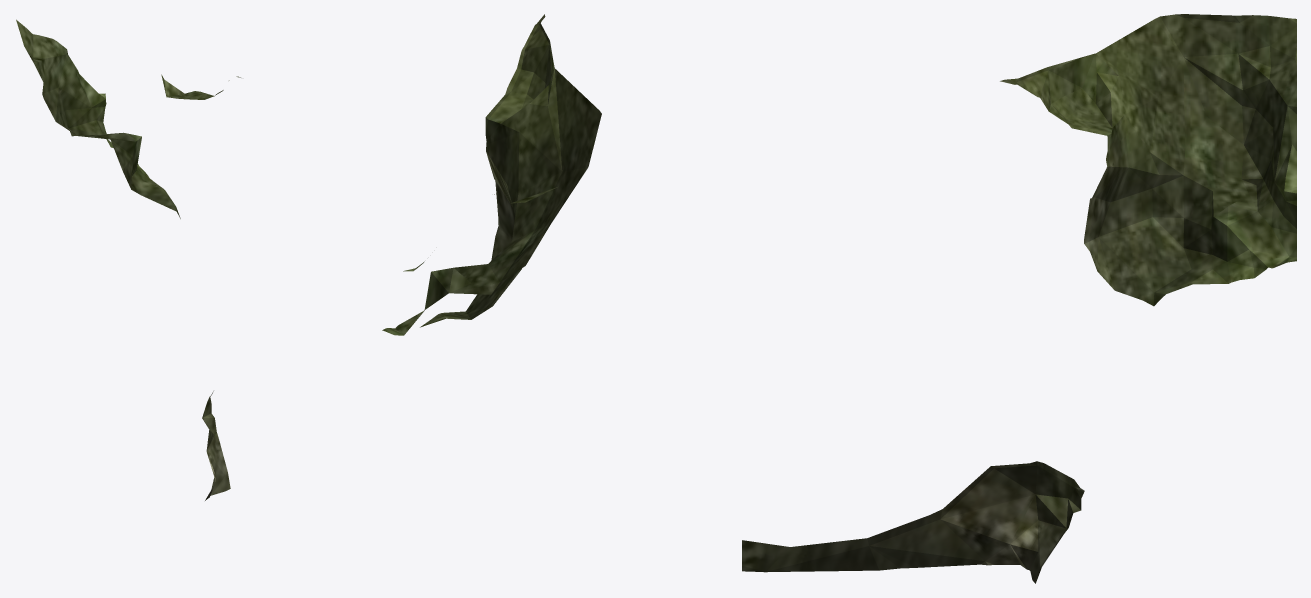
3 renders of one model, left to right at view 1: azimuth 30°, elevation 25°; view 2: azimuth 150°, elevation 25°; view 3: azimuth 270°, elevation 25°, orthographic. The views are drawn at different scales.
Size of the model in its own units: 0.8495 by 2.95 by 2.95.
1 material, 1 textured.
